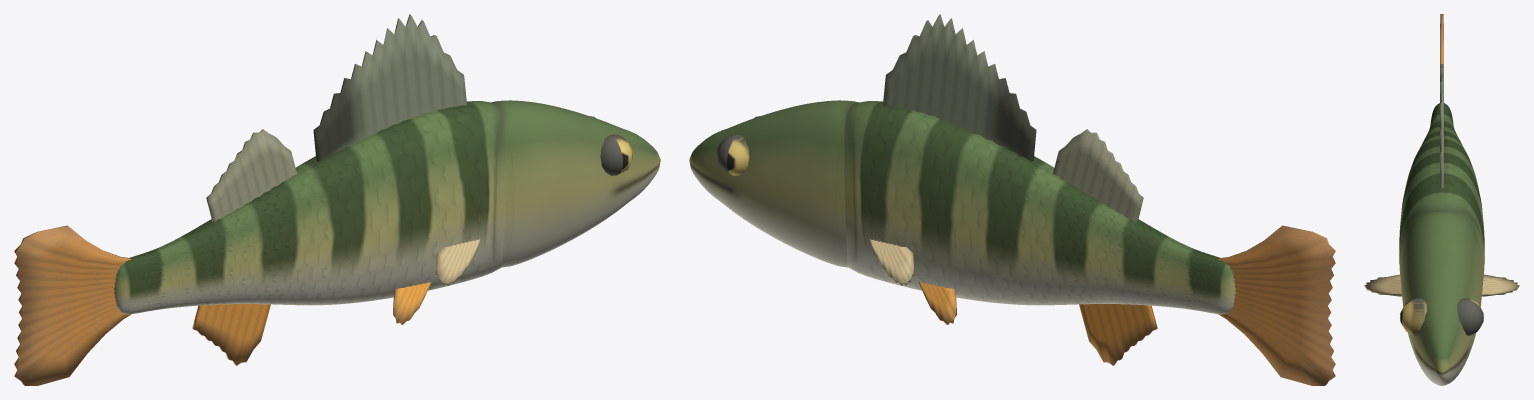
Rendered from fish_perch.fbx.
3 views of the same model, side by side, from view 1: azimuth 30°, elevation 25°; view 2: azimuth 150°, elevation 25°; view 3: azimuth 270°, elevation 25° (orthographic). The views are drawn at different scales.
Visible parts, largest first — view 1: fish_perch; view 2: fish_perch; view 3: fish_perch.
Boxes of the visible parts, <box> form: fish_perch: <box>14,14,660,385</box>; fish_perch: <box>689,14,1335,385</box>; fish_perch: <box>1364,14,1519,385</box>.
Size of the model in its own units: 24.91 by 11.35 by 5.63.
Materials: 1 (1 with a texture image).
